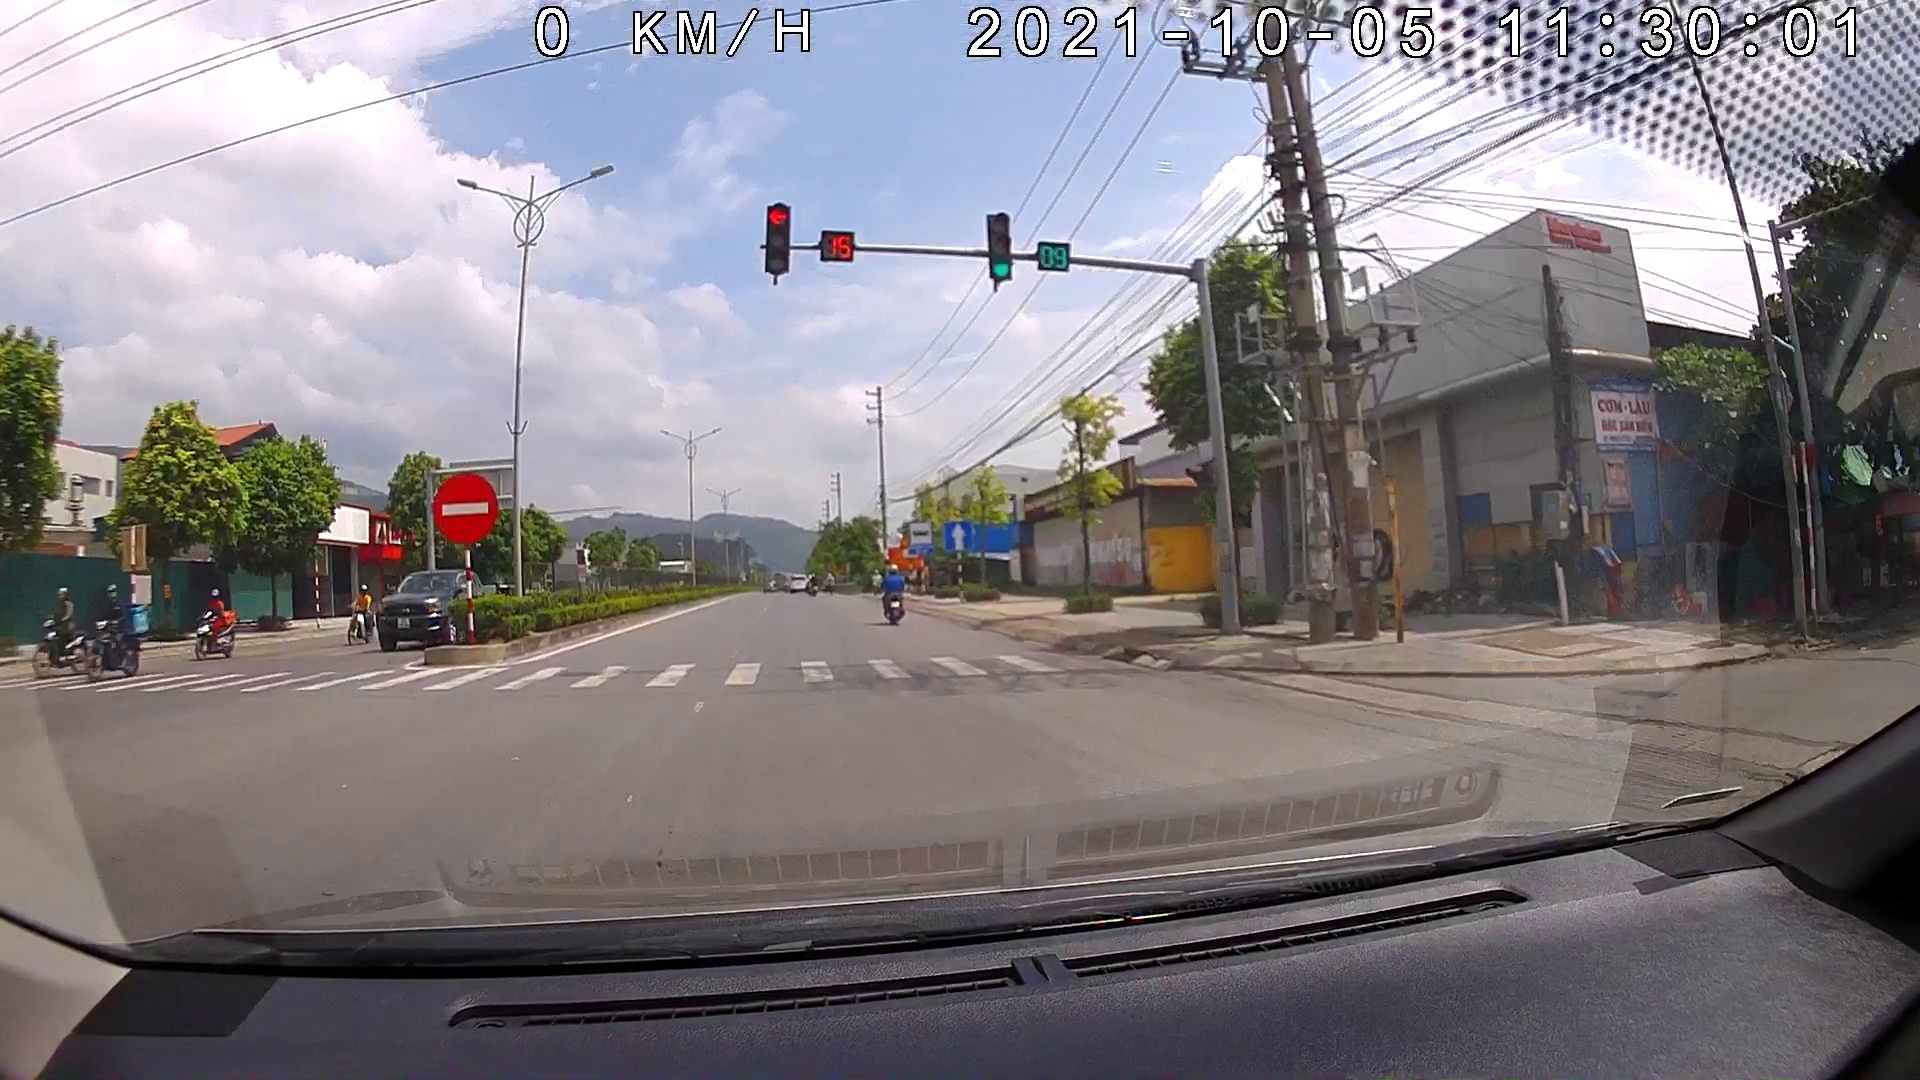Bien khac: (942, 520, 971, 551), (905, 518, 931, 553)
Cam di nguoc chieu: (434, 469, 496, 545)
